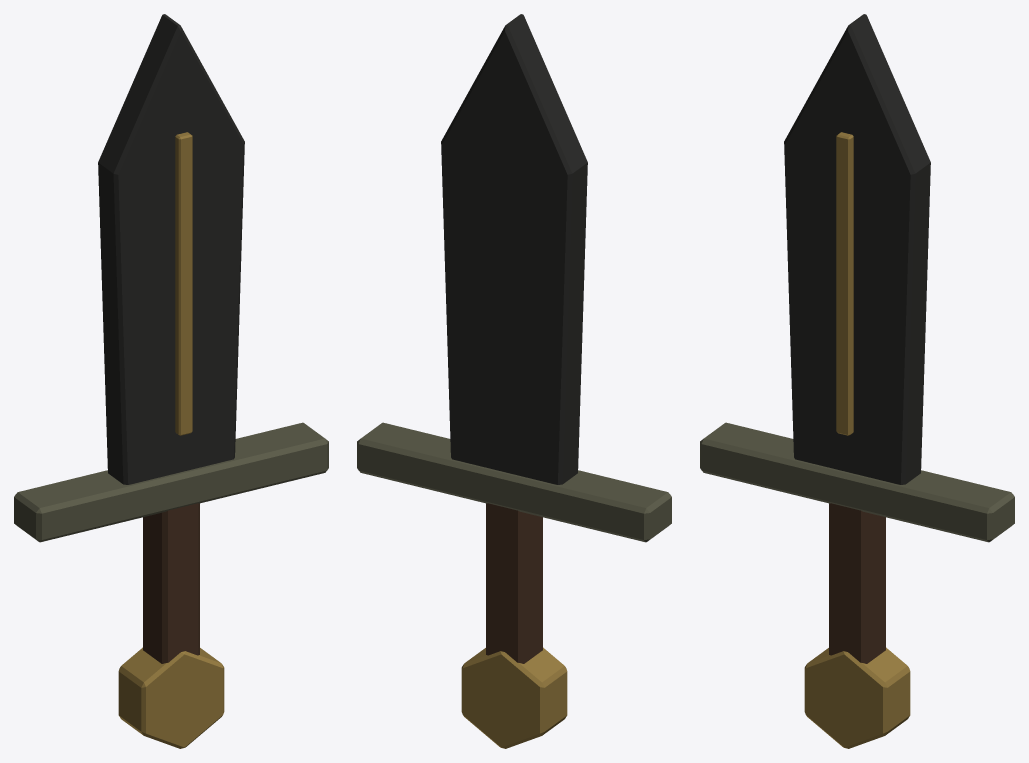
File: greatsword.obj
3 views of the same model, side by side, from view 1: azimuth 30°, elevation 25°; view 2: azimuth 150°, elevation 25°; view 3: azimuth 330°, elevation 25° (orthographic).
Visible parts, largest first — view 1: B_Blade.001_wrought_iron, B_Guard.001_oxidized_bronze, B_Grip.001_dark_wood, B_Pommel.001_ritual_gold, B_Fuller.001_ritual_gold; view 2: B_Blade.001_wrought_iron, B_Guard.001_oxidized_bronze, B_Grip.001_dark_wood, B_Pommel.001_ritual_gold; view 3: B_Blade.001_wrought_iron, B_Guard.001_oxidized_bronze, B_Grip.001_dark_wood, B_Pommel.001_ritual_gold, B_Fuller.001_ritual_gold.
Boxes of the visible parts, x1,y1,x2,y2 form: B_Blade.001_wrought_iron: (98, 14, 244, 484); B_Guard.001_oxidized_bronze: (14, 422, 328, 542); B_Grip.001_dark_wood: (143, 503, 199, 663); B_Pommel.001_ritual_gold: (118, 647, 224, 748); B_Fuller.001_ritual_gold: (175, 132, 192, 435); B_Blade.001_wrought_iron: (441, 14, 587, 484); B_Guard.001_oxidized_bronze: (357, 422, 671, 542); B_Grip.001_dark_wood: (486, 503, 542, 663); B_Pommel.001_ritual_gold: (461, 647, 567, 748); B_Blade.001_wrought_iron: (784, 14, 930, 484); B_Guard.001_oxidized_bronze: (700, 422, 1014, 542); B_Grip.001_dark_wood: (829, 503, 885, 663); B_Pommel.001_ritual_gold: (804, 647, 910, 748); B_Fuller.001_ritual_gold: (836, 132, 853, 435).
Bounding box in the file's own units: 1.16 × 2.72 × 0.1925.
